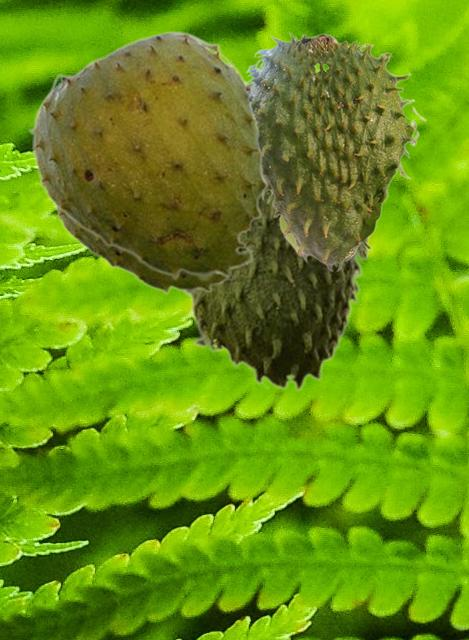guyabano: (27, 30, 268, 282), (186, 78, 371, 390), (244, 32, 426, 271), (54, 208, 230, 296)
